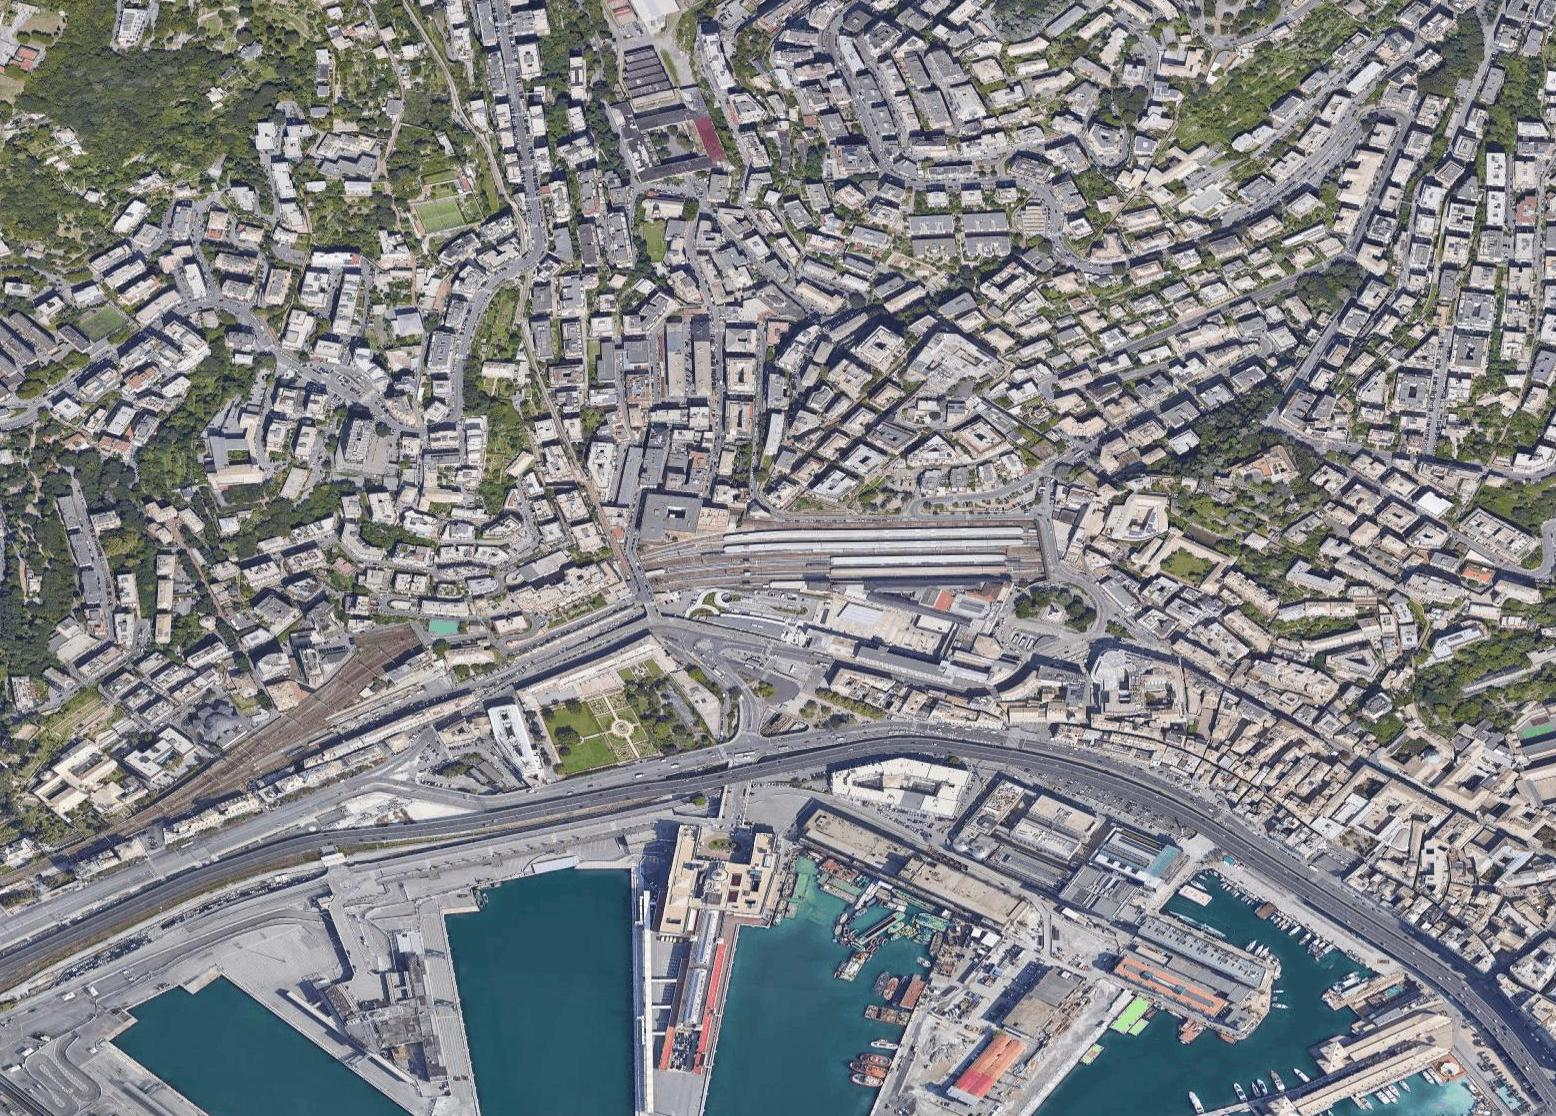harbor: (22, 829, 1551, 1116)
motorway: (1343, 913, 1556, 1116), (1, 877, 222, 992), (486, 743, 741, 841), (217, 804, 484, 890), (741, 710, 1005, 786), (1001, 734, 1184, 825), (1186, 812, 1342, 913)
train_station: (664, 515, 1043, 592)
